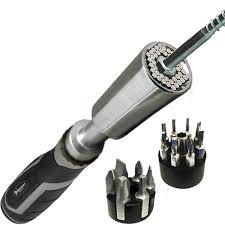screwdriver: (113, 175, 129, 220), (137, 173, 149, 219), (194, 128, 205, 162), (103, 167, 119, 188), (113, 156, 127, 177), (186, 138, 194, 166), (144, 164, 153, 186), (160, 130, 166, 159), (132, 159, 144, 173), (169, 116, 176, 135), (183, 116, 189, 131), (194, 119, 202, 130)
